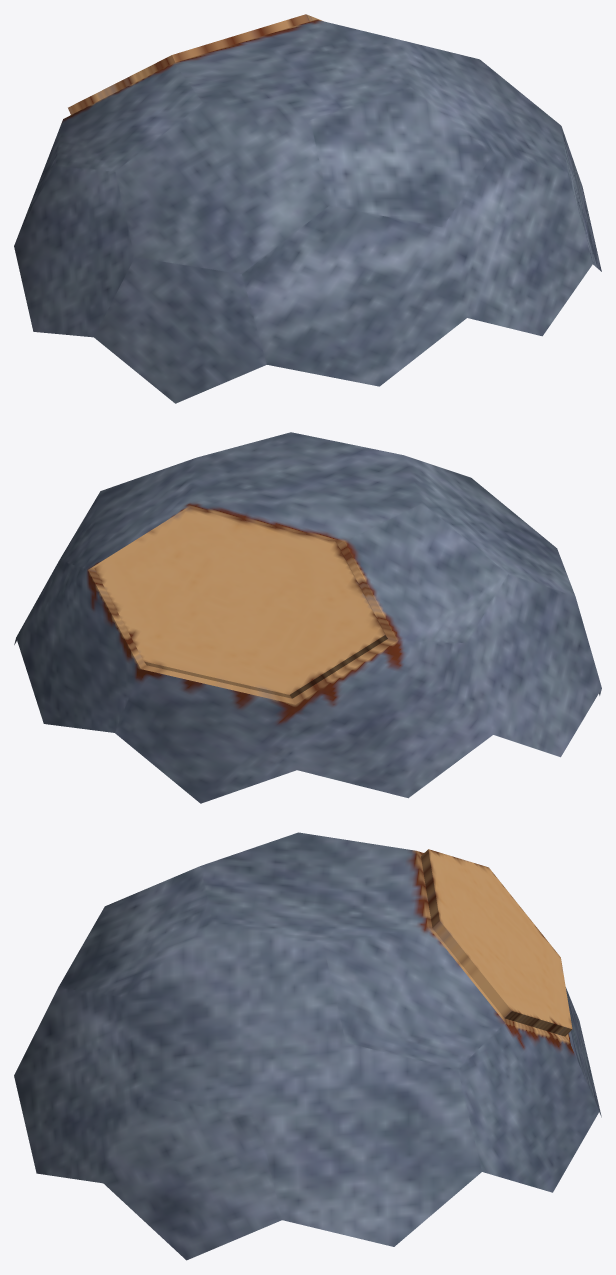
Rendered from rock.glb.
3 renders of one model, top to bottom at view 1: azimuth 30°, elevation 25°; view 2: azimuth 150°, elevation 25°; view 3: azimuth 270°, elevation 25°, orthographic. The views are drawn at different scales.
Visible parts, largest first — view 1: rock_geo; view 2: rock_geo; view 3: rock_geo.
Part boxes in pixels (x1,y1,x2,y2): rock_geo: (14, 14, 601, 403); rock_geo: (14, 432, 601, 803); rock_geo: (14, 832, 601, 1260).
Size of the model in its own units: 0.3337 by 0.1354 by 0.2922.
Materials: 1 (1 with a texture image).
